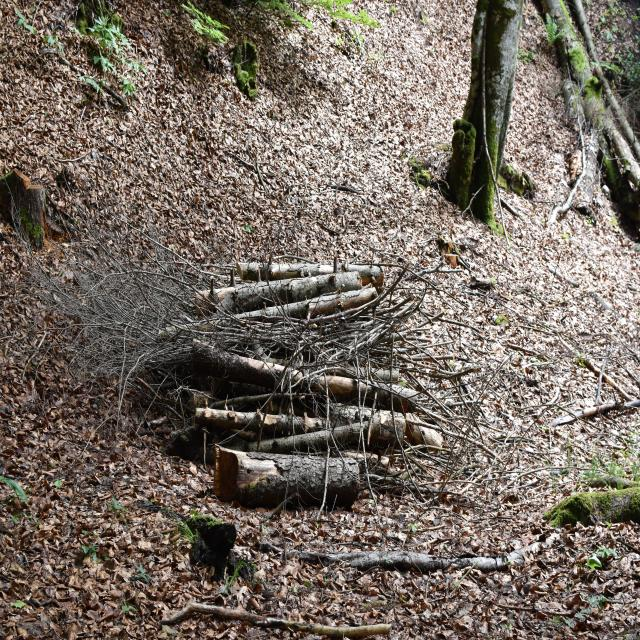restos de madeira: (123, 302, 417, 376), (189, 336, 428, 417), (134, 579, 408, 637), (228, 516, 533, 568), (159, 414, 416, 460), (213, 438, 359, 515), (210, 281, 382, 333), (192, 272, 364, 310), (232, 258, 390, 290), (197, 404, 336, 438), (3, 168, 56, 242)
